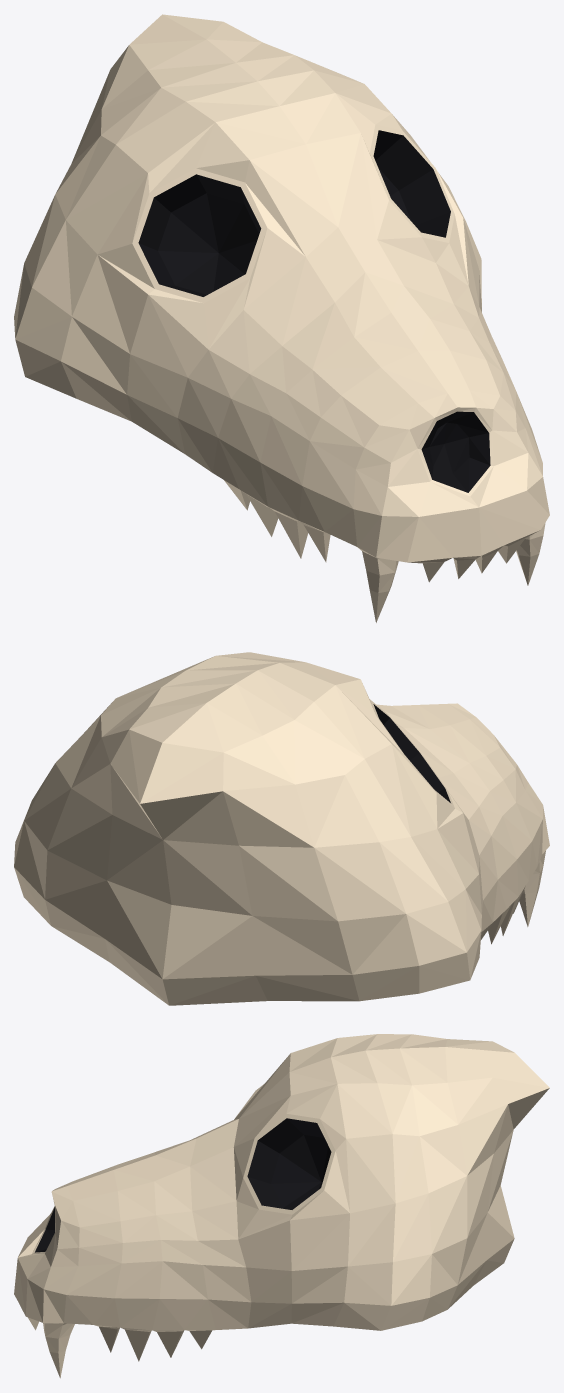
File: Wolf_Skull.glb
The picture shows the model from 3 angles, top to bottom: view 1: azimuth 30°, elevation 25°; view 2: azimuth 150°, elevation 25°; view 3: azimuth 270°, elevation 25°; orthographic projection. The views are drawn at different scales.
Size of the model in its own units: 18.81 by 15.36 by 24.63.
1 material, 1 textured.
